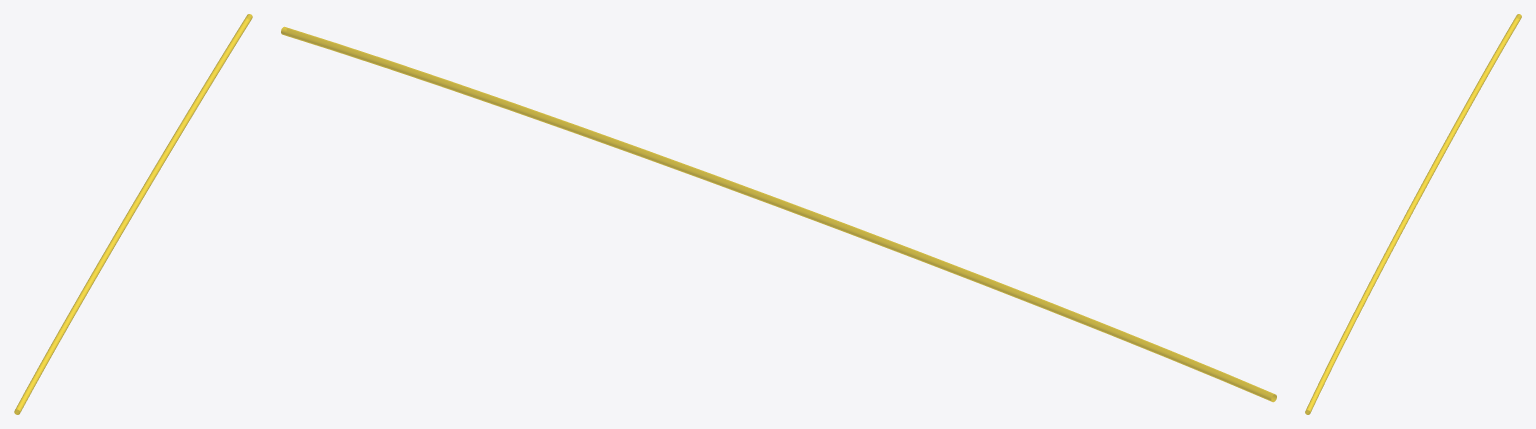
The model's file is Event_17758602_track_41.fbx.
3 views of the same model, side by side, from view 1: azimuth 90°, elevation 25°; view 2: azimuth 150°, elevation 25°; view 3: azimuth 270°, elevation 25° (orthographic). The views are drawn at different scales.
Parts seen in each view (by area): view 1: Model; view 2: Model; view 3: Model.
Part boxes in pixels (x1,y1,x2,y2): Model: [14, 14, 252, 414]; Model: [281, 26, 1276, 402]; Model: [1305, 14, 1521, 414].
Size of the model in its own units: 6.41 by 0.1943 by 1.55.
